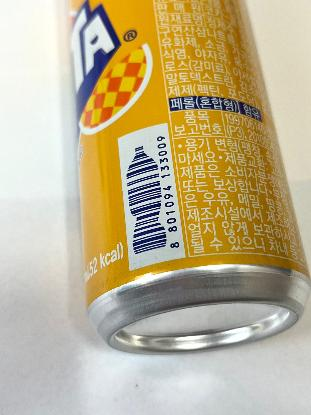Can: (65, 0, 311, 358)
